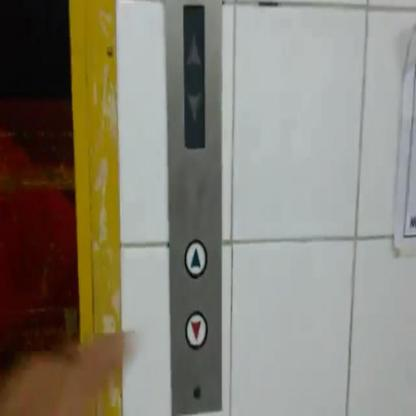down: (183, 309, 208, 351)
led: (183, 1, 205, 148)
up: (183, 238, 208, 278)
